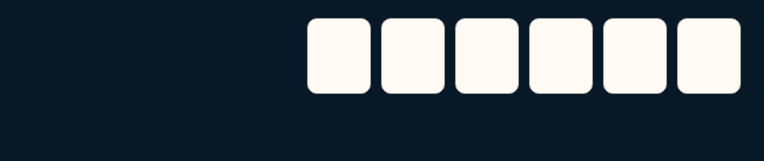
Test: pasting fills all six fields and ignores non-digits
The image size is (764, 161).
Click the field named "Digit 1": click(339, 56) [307,18,371,94]
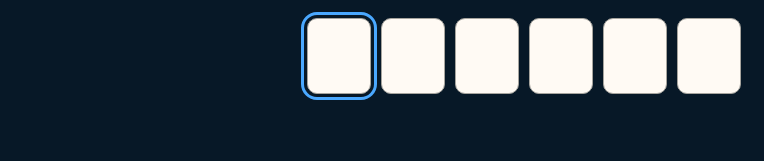
Type keys "12 34-56"
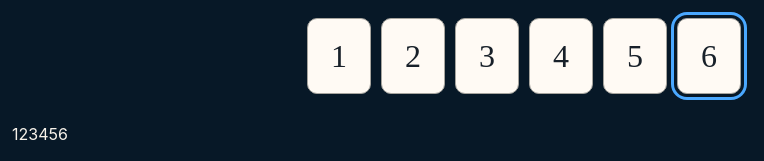
expect the text with test id "value" reads "123456": met, box [12,124,68,144]
